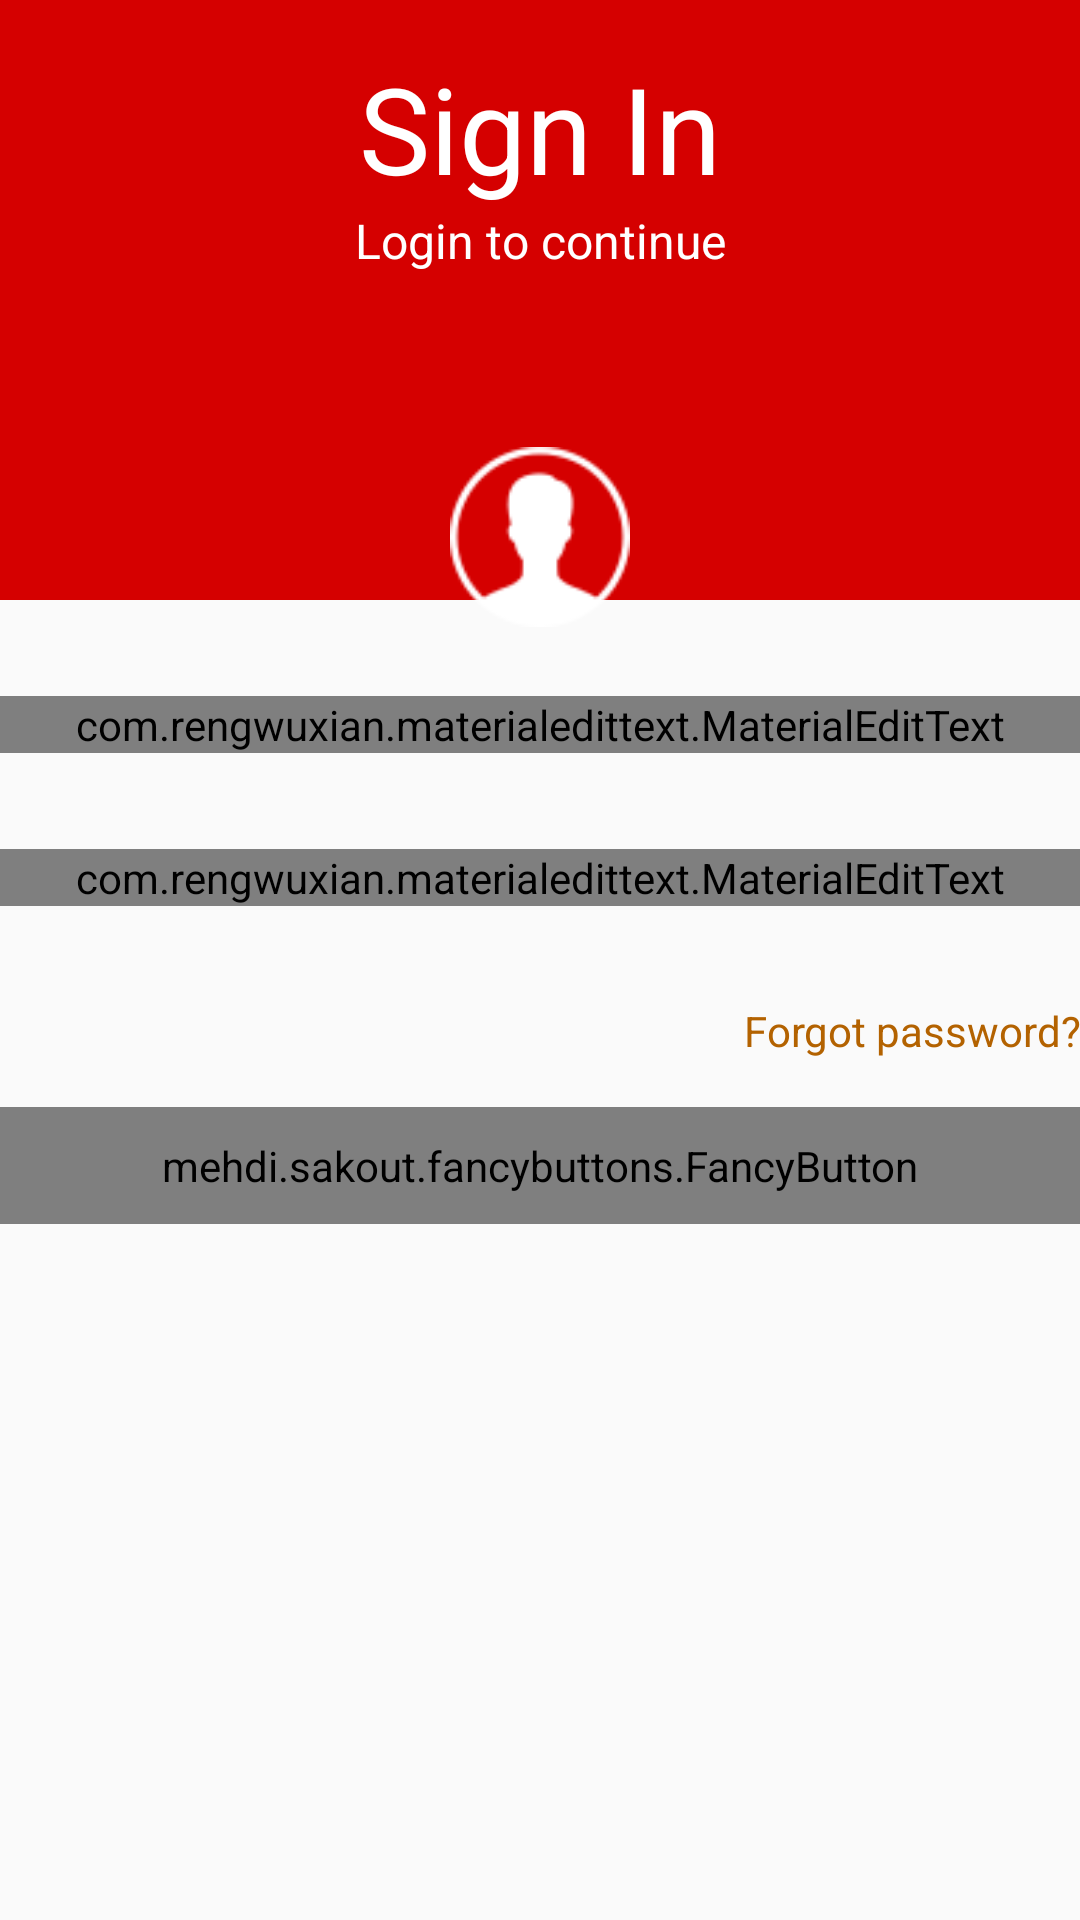

Screen size 1080px×1920px. Icon name, then its box in pixels as region(x1, y1, x2, y2):
male circle: region(450, 447, 630, 627)
